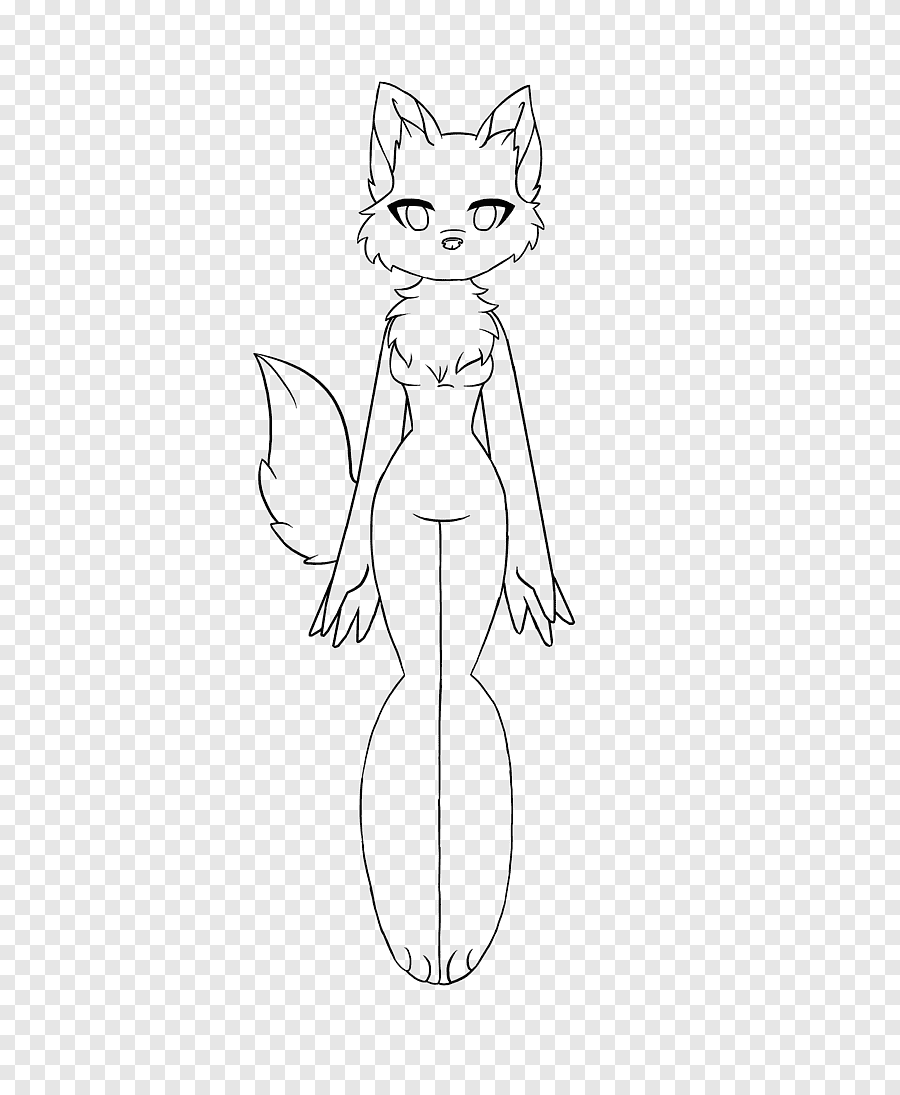Lobo: (275, 66, 593, 371)
